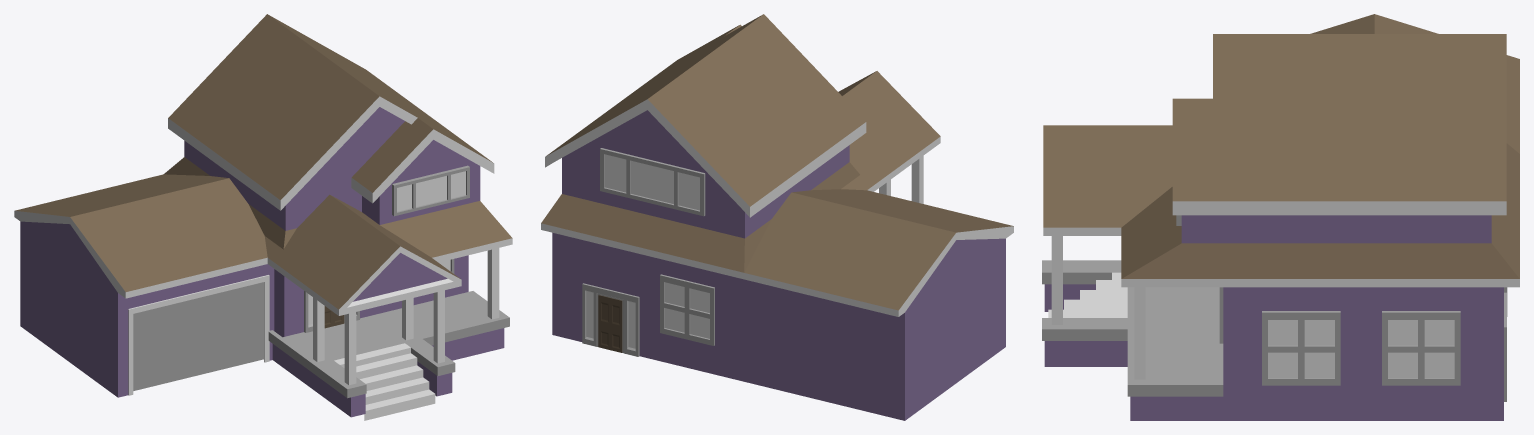
Rendered from davey_new_cut.fbx.
3 views of the same model, side by side, from view 1: azimuth 30°, elevation 25°; view 2: azimuth 150°, elevation 25°; view 3: azimuth 270°, elevation 25° (orthographic). The views are drawn at different scales.
Visible parts, largest first — view 1: roof, walls, garagedoor, roof_trim3, patio1, stairs1, pillars3, garage_rim1, windows, window_and_doorframes; view 2: roof, walls, roof_trim3, window_and_doorframes, windows, doors, pillars3; view 3: roof, walls, patio1, roof_trim3, window_and_doorframes, windows, pillars3, stairs1.
Boxes of the visible parts, box(x1,y1,x2,y2) form: roof: box(15, 14, 512, 309); walls: box(20, 107, 504, 417); garagedoor: box(133, 282, 263, 390); roof_trim3: box(14, 96, 512, 315); patio1: box(268, 291, 509, 398); stairs1: box(334, 343, 435, 420); pillars3: box(313, 248, 499, 385); garage_rim1: box(128, 275, 269, 395); windows: box(308, 171, 465, 324); window_and_doorframes: box(304, 165, 469, 332); roof: box(541, 14, 1013, 310); walls: box(552, 110, 1005, 420); roof_trim3: box(545, 99, 1013, 316); window_and_doorframes: box(582, 148, 714, 356); windows: box(586, 154, 709, 348); doors: box(598, 295, 622, 352); pillars3: box(879, 156, 923, 203); roof: box(1043, 14, 1519, 287); walls: box(1044, 215, 1503, 420); patio1: box(1042, 260, 1223, 396); roof_trim3: box(1043, 201, 1506, 287); window_and_doorframes: box(1176, 215, 1507, 401); windows: box(1268, 320, 1454, 377); pillars3: box(1051, 236, 1145, 379); stairs1: box(1048, 272, 1127, 317).
Bounding box in the file's own units: 15.9 × 11.36 × 14.54.
